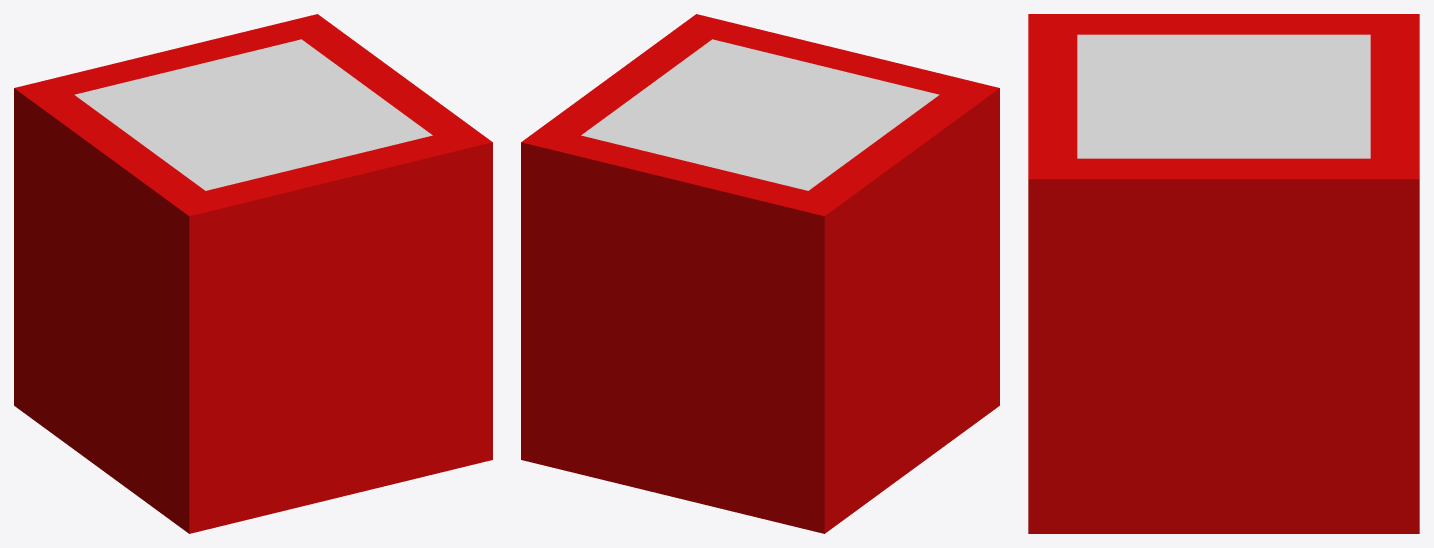
File: LabyrinthTile.fbx
3 renders of one model, left to right at view 1: azimuth 30°, elevation 25°; view 2: azimuth 150°, elevation 25°; view 3: azimuth 270°, elevation 25°, orthographic. The views are drawn at different scales.
Visible parts, largest first — view 1: Cube; view 2: Cube; view 3: Cube.
Part boxes in pixels (x1,y1,x2,y2): Cube: [14, 14, 492, 533]; Cube: [521, 14, 999, 533]; Cube: [1028, 14, 1419, 533].
Size of the model in its own units: 100 by 100 by 100.
